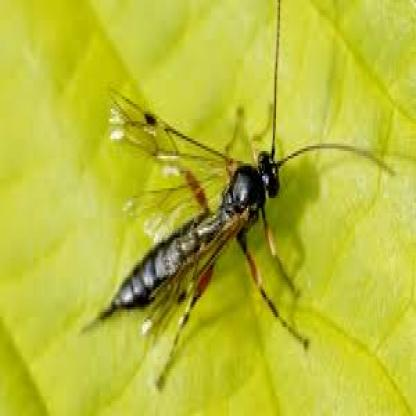sawfly: (91, 0, 375, 377)
